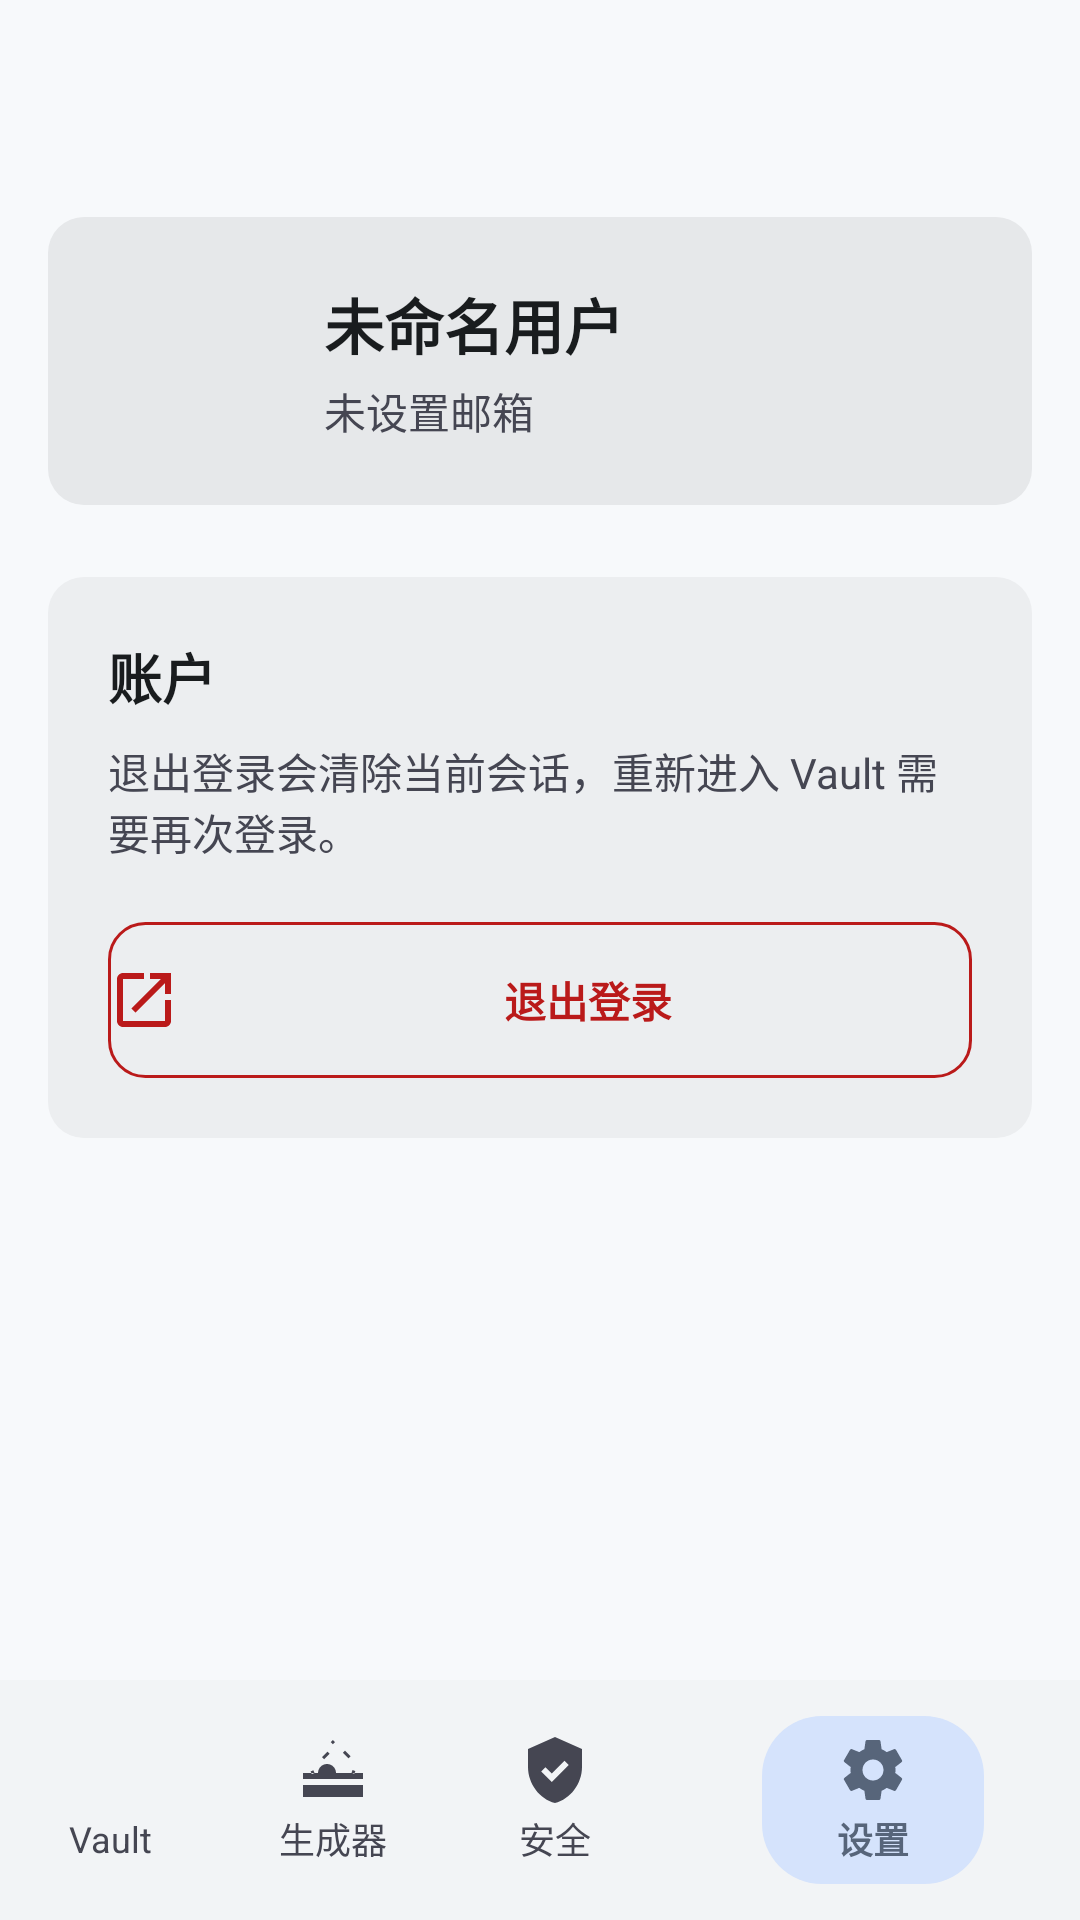

Icon bounding boxes for this 1080px x 1920px phone screenshot, format (x1, y1, x2, y2):
verified user: (528, 1737, 582, 1803)
